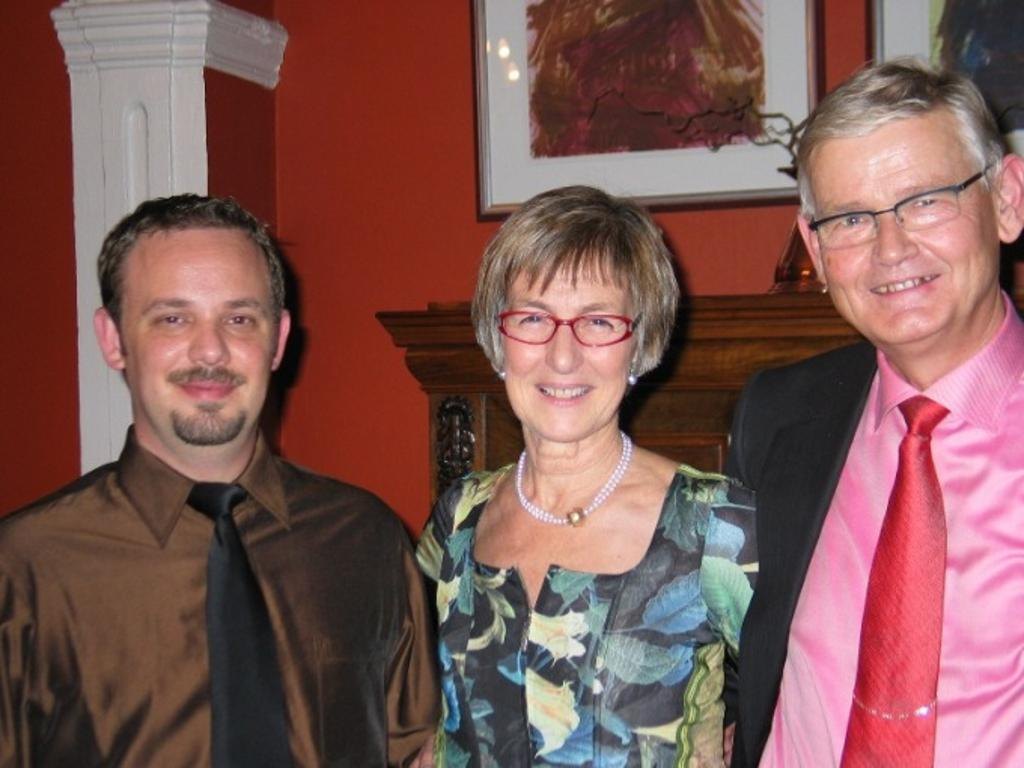face: (828, 122, 980, 342), (138, 228, 272, 440), (506, 250, 628, 412)
